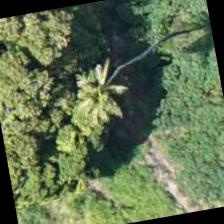Kelapa_Sawit: (52, 34, 156, 138), (50, 116, 154, 219)
